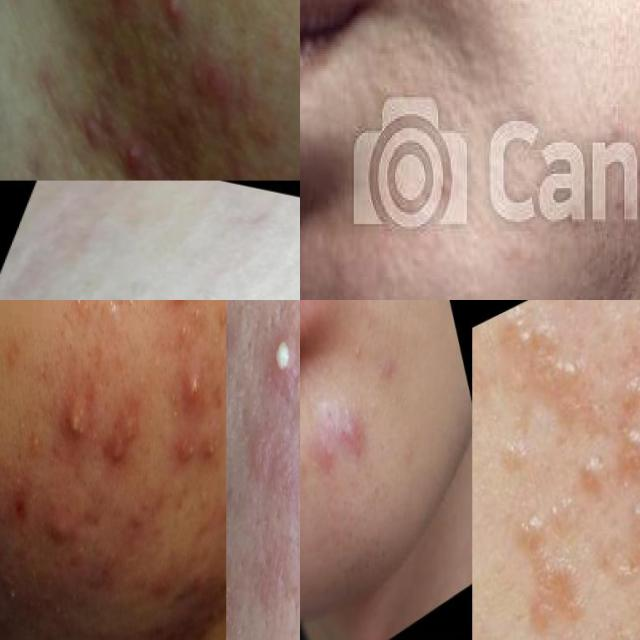comedone: (346, 329, 366, 368), (386, 382, 405, 418)
flat_wart: (482, 481, 605, 640), (504, 300, 597, 450), (593, 355, 640, 560), (550, 430, 612, 516)
folliculitis: (264, 328, 299, 382)
papule: (304, 400, 374, 495), (178, 59, 229, 113), (368, 338, 402, 392), (148, 570, 176, 622), (43, 506, 69, 551), (118, 502, 152, 536)
pustule: (148, 0, 197, 42), (114, 131, 144, 175), (185, 367, 202, 423), (87, 0, 134, 14), (139, 170, 175, 180)
sebo-crystan-conglo: (53, 386, 92, 447), (107, 406, 139, 468), (155, 300, 192, 316)
